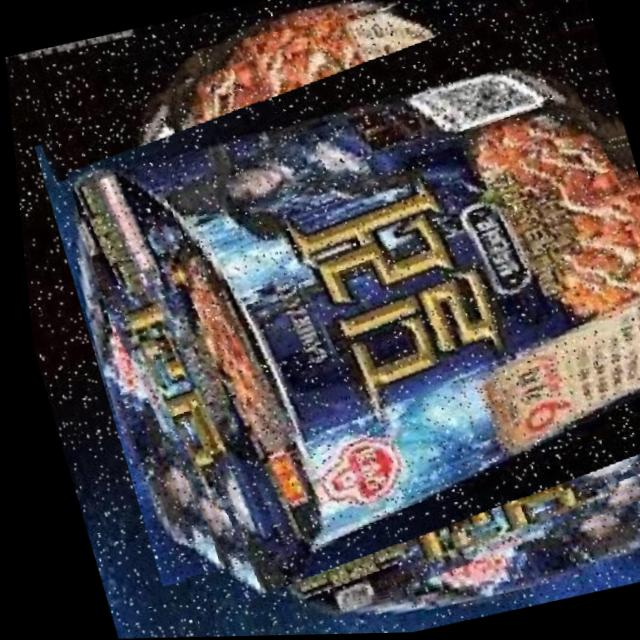Miscellaneous: (32, 0, 640, 639)
